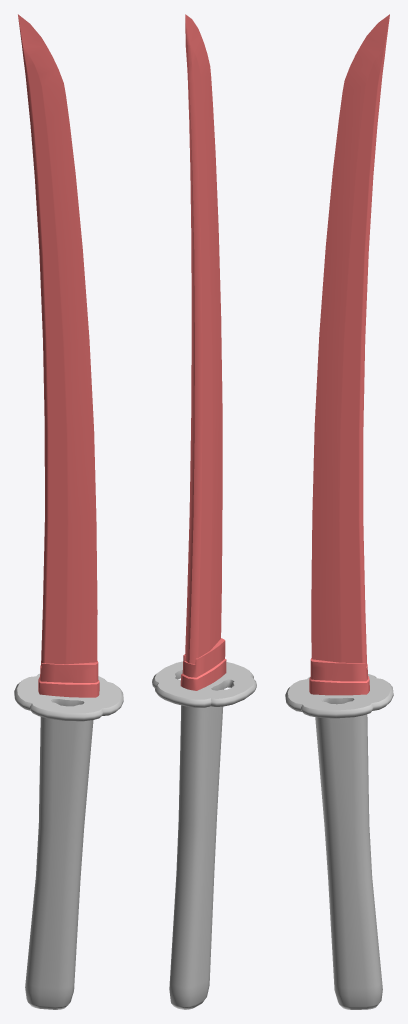
The model's file is SM_Katana.fbx.
The picture shows the model from 3 angles, left to right: view 1: azimuth 90°, elevation 25°; view 2: azimuth 150°, elevation 25°; view 3: azimuth 270°, elevation 25°; orthographic projection.
Parts seen in each view (by area): view 1: katana; view 2: katana; view 3: katana.
Boxes of the visible parts, x1,y1,x2,y2 form: katana: [14, 14, 123, 1009]; katana: [152, 14, 256, 1009]; katana: [285, 14, 393, 1009].
Bounding box in the file's own units: 10.88 × 120 × 11.9.
